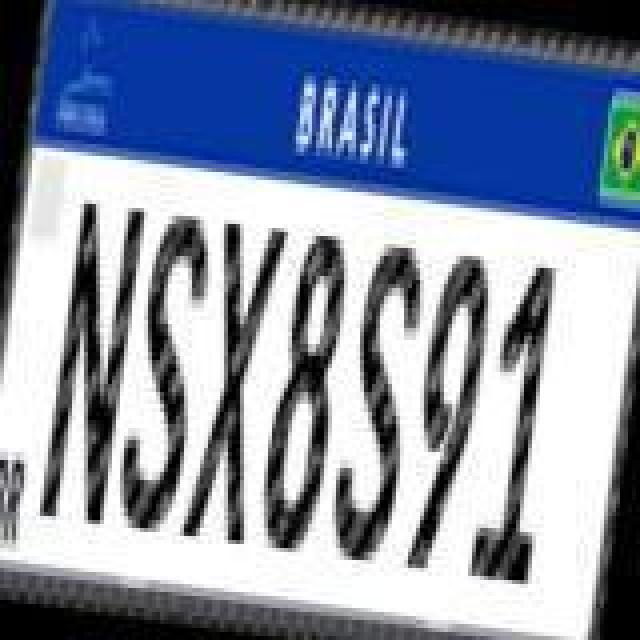1: (464, 248, 576, 584)
8: (252, 222, 356, 554)
9: (396, 244, 500, 580)
N: (32, 192, 144, 528)
S: (320, 236, 432, 572), (110, 200, 218, 536)
X: (176, 216, 288, 552)
